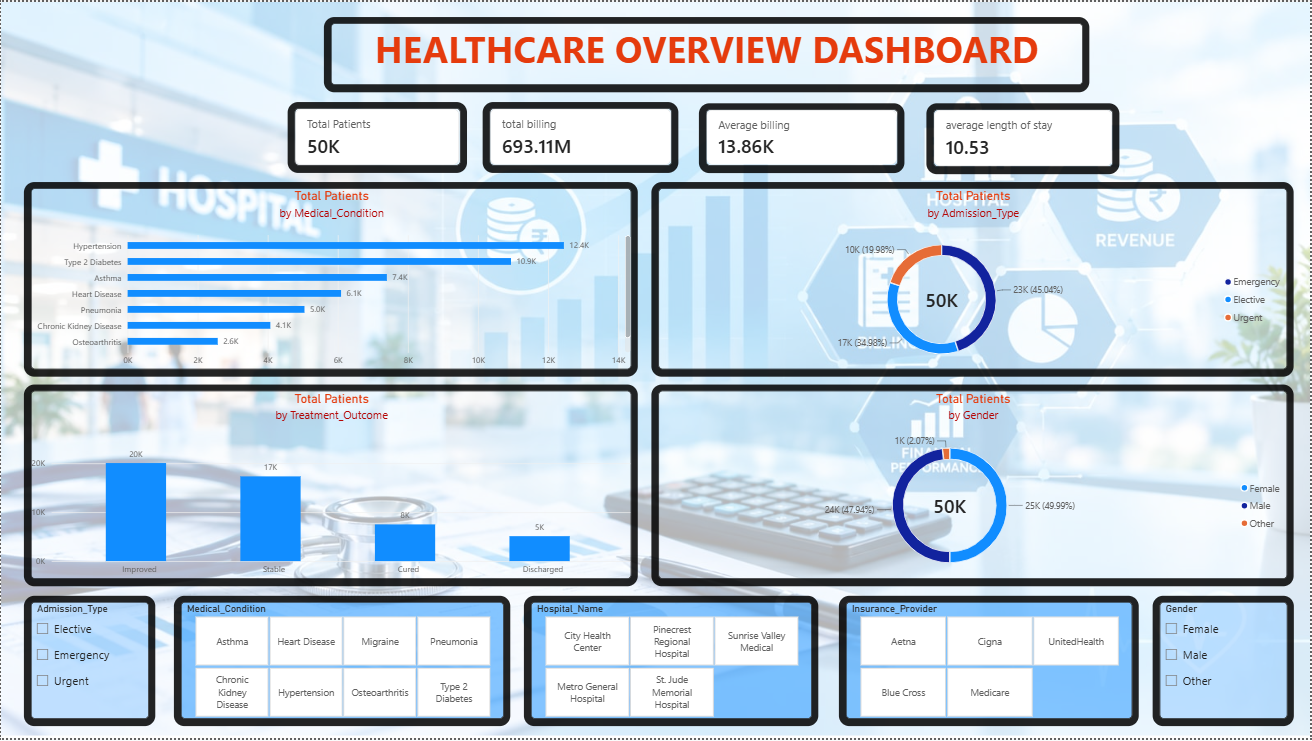

Layout of this report page (visuals, bound fields, positions):
{"tool":"powerbi","page":{"name":"Healthcare Overview","canvas":[1920,1080],"ordinal":0},"visuals":[{"type":"cardVisual","fields":{"Data":["healthcare.Total Patients"]},"box":[430.2,156.4,242.9,84.4],"z":0},{"type":"cardVisual","fields":{"Data":["healthcare.average billling"]},"box":[716.3,156.4,267.6,84.4],"z":1000},{"type":"cardVisual","fields":{"Data":["healthcare.Average billing"]},"box":[1035.3,158.5,282,82.3],"z":2000},{"type":"cardVisual","fields":{"Data":["healthcare.average length of stay"]},"box":[1368.8,158.5,263.5,84.4],"z":3000},{"type":"clusteredBarChart","fields":{"Category":["healthcare.Medical_Condition"],"Y":["healthcare.Total Patients"]},"box":[43.2,273.8,881,265.5],"z":4000},{"type":"donutChart","fields":{"Category":["healthcare.Admission_Type"],"Y":["healthcare.Total Patients"]},"box":[965.4,273.8,922.1,265.5],"z":5000},{"type":"donutChart","fields":{"Category":["healthcare.Gender"],"Y":["healthcare.Total Patients"]},"box":[965.4,570.2,922.1,275.8],"z":6000},{"type":"columnChart","fields":{"Category":["healthcare.Treatment_Outcome"],"Y":["healthcare.Total Patients"]},"box":[43.2,570.2,881,275.8],"z":7000},{"type":"textbox","box":[483.7,30.9,1103.3,90.6],"z":8000},{"type":"slicer","fields":{"Values":["healthcare.Admission_Type"]},"box":[43.2,881,172.9,170.8],"z":9000},{"type":"slicer","fields":{"Values":["healthcare.Medical_Condition"]},"box":[263.5,881,473.4,170.8],"z":10000},{"type":"slicer","fields":{"Values":["healthcare.Hospital_Name"]},"box":[778,881,411.7,170.8],"z":10001},{"type":"slicer","fields":{"Values":["healthcare.Insurance_Provider"]},"box":[1239.1,881,419.9,170.8],"z":10002},{"type":"slicer","fields":{"Values":["healthcare.Gender"]},"box":[1700.2,881,187.3,170.8],"z":10003}]}

Visuals, with their boxes in screenshot pixels (x1, y1, x2, y2), scaled from the page's 1920x1080 canvas onto the 1312x741 screenshot:
cardVisual - healthcare.Total Patients: locate(294, 107, 460, 165)
cardVisual - healthcare.average billling: locate(489, 107, 672, 165)
cardVisual - healthcare.Average billing: locate(707, 109, 900, 165)
cardVisual - healthcare.average length of stay: locate(935, 109, 1115, 167)
clusteredBarChart - healthcare.Medical_Condition x healthcare.Total Patients: locate(30, 188, 632, 370)
donutChart - healthcare.Admission_Type x healthcare.Total Patients: locate(660, 188, 1290, 370)
donutChart - healthcare.Gender x healthcare.Total Patients: locate(660, 391, 1290, 580)
columnChart - healthcare.Treatment_Outcome x healthcare.Total Patients: locate(30, 391, 632, 580)
textbox: locate(331, 21, 1084, 83)
slicer - healthcare.Admission_Type: locate(30, 604, 148, 722)
slicer - healthcare.Medical_Condition: locate(180, 604, 504, 722)
slicer - healthcare.Hospital_Name: locate(532, 604, 813, 722)
slicer - healthcare.Insurance_Provider: locate(847, 604, 1134, 722)
slicer - healthcare.Gender: locate(1162, 604, 1290, 722)
